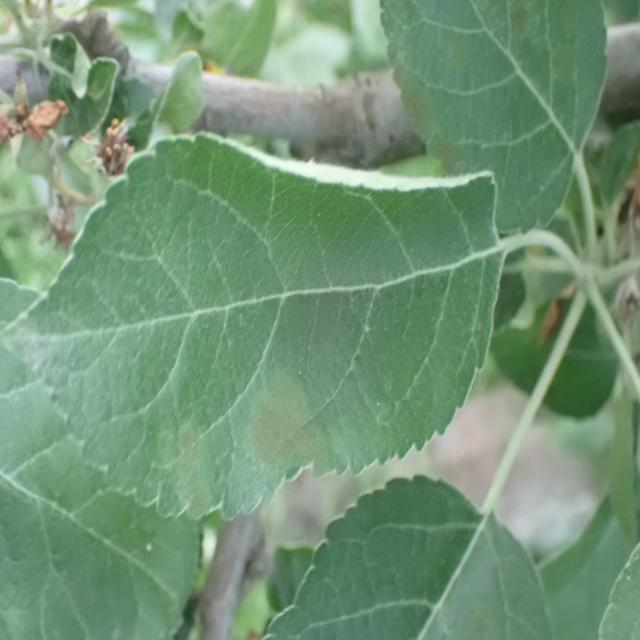scab: (108, 352, 410, 534)
